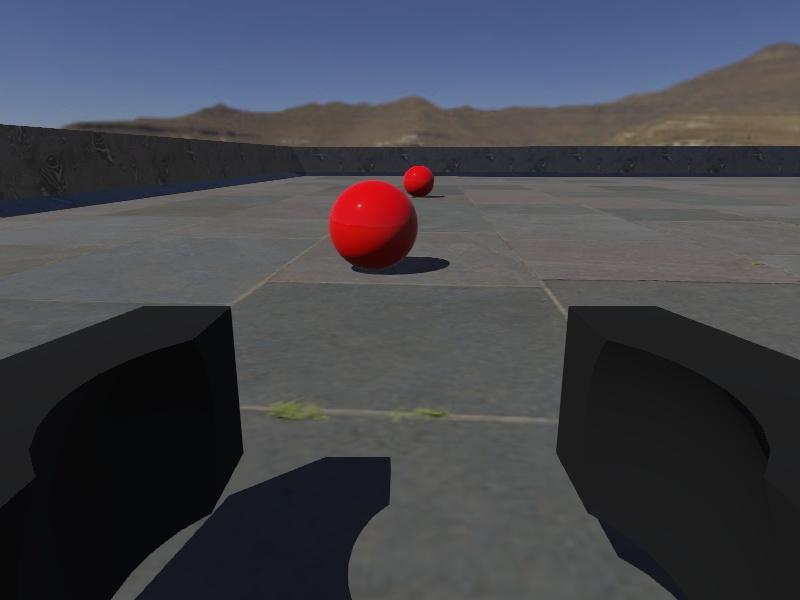red ball: (328, 178, 419, 272), (402, 164, 435, 198)
